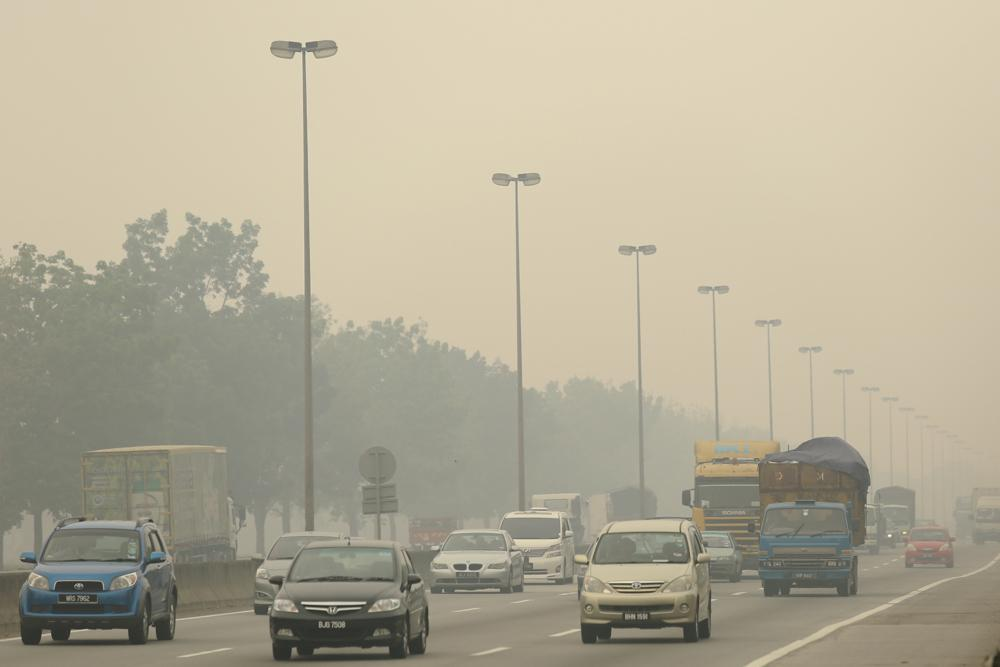bus: (80, 443, 246, 580), (748, 437, 871, 597), (682, 440, 783, 575), (588, 487, 659, 545), (830, 491, 882, 558), (528, 492, 589, 547), (874, 485, 916, 548), (968, 487, 1000, 544), (952, 495, 983, 538)
car: (18, 516, 179, 645), (268, 537, 430, 661), (573, 518, 712, 644), (251, 530, 355, 615), (428, 528, 525, 594), (498, 507, 574, 585), (577, 531, 655, 602), (672, 531, 745, 583), (902, 525, 956, 568), (867, 517, 900, 550), (911, 519, 940, 538)
